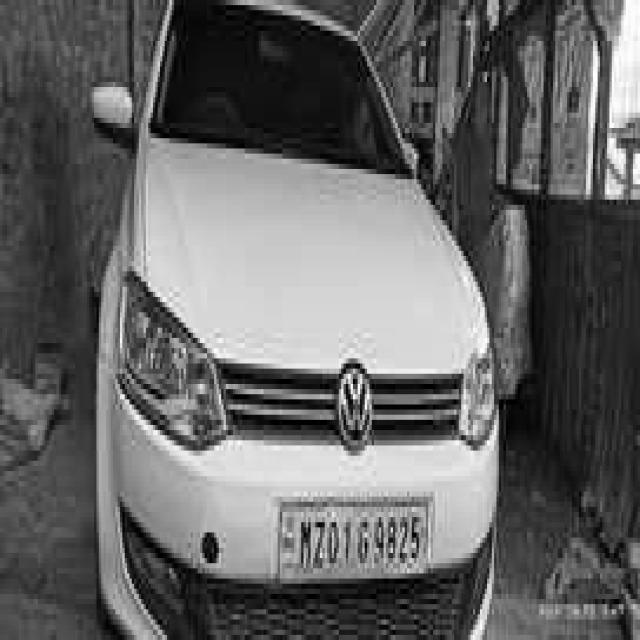car: (90, 5, 503, 640)
license-plate: (278, 496, 428, 584)
